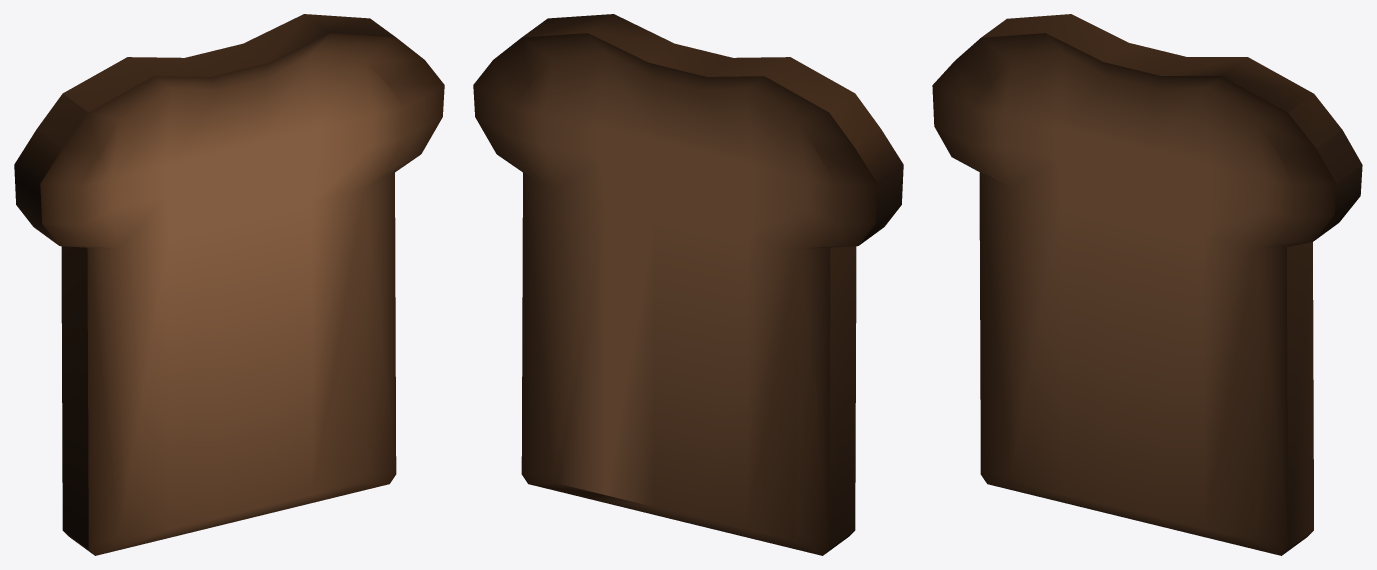
Rendered from Bread.fbx.
3 renders of one model, left to right at view 1: azimuth 30°, elevation 25°; view 2: azimuth 150°, elevation 25°; view 3: azimuth 330°, elevation 25°, orthographic.
Parts seen in each view (by area): view 1: Bread_Model; view 2: Bread_Model; view 3: Bread_Model.
Part boxes in pixels (left/top/right/bottom): Bread_Model: left=14, top=14, right=444, bottom=555; Bread_Model: left=473, top=14, right=903, bottom=555; Bread_Model: left=932, top=14, right=1362, bottom=555.
Size of the model in its own units: 393 by 433 by 44.34.
